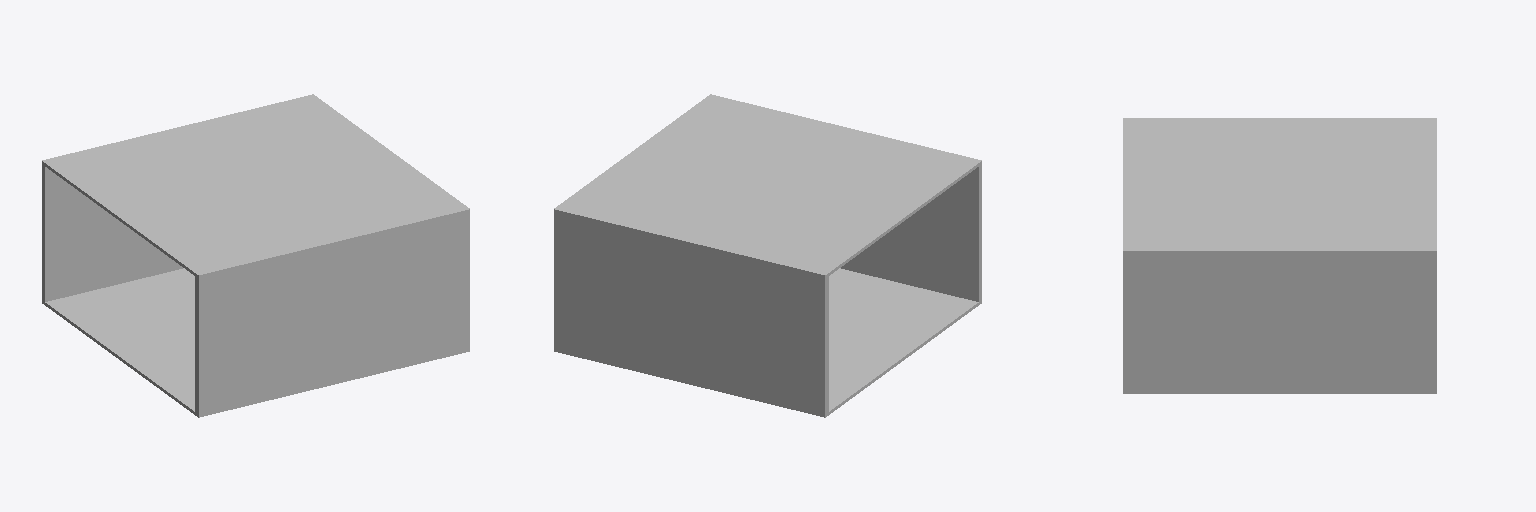
Rendered from halfbox.obj.
The picture shows the model from 3 angles: view 1: azimuth 30°, elevation 25°; view 2: azimuth 150°, elevation 25°; view 3: azimuth 270°, elevation 25°; orthographic projection.
Parts seen in each view (by area): view 1: Cube_Cube.002; view 2: Cube_Cube.002; view 3: Cube_Cube.002.
Part boxes in pixels (left/top/right/bottom): Cube_Cube.002: left=42, top=94, right=469, bottom=417; Cube_Cube.002: left=554, top=94, right=981, bottom=417; Cube_Cube.002: left=1123, top=118, right=1436, bottom=393.
Size of the model in its own units: 20 by 10 by 20.